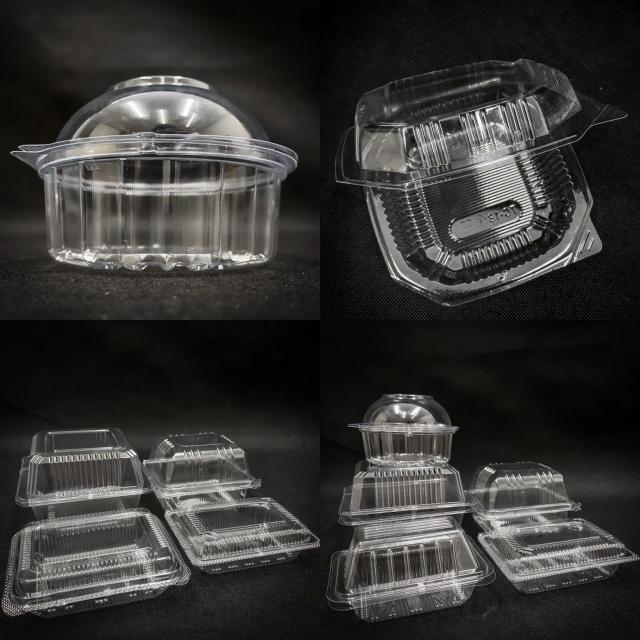Single-Use-Plastic: (336, 60, 625, 305), (12, 76, 298, 270), (1, 508, 190, 616), (326, 516, 494, 622), (15, 429, 152, 520), (479, 519, 640, 593), (165, 498, 319, 572), (144, 432, 260, 510), (339, 461, 475, 524), (349, 394, 459, 466), (470, 461, 580, 531)
